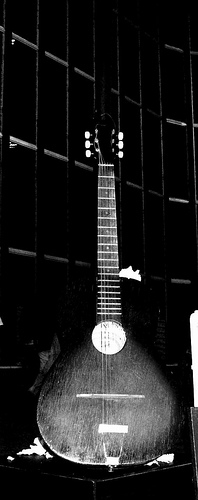guitar: (35, 117, 185, 468)
